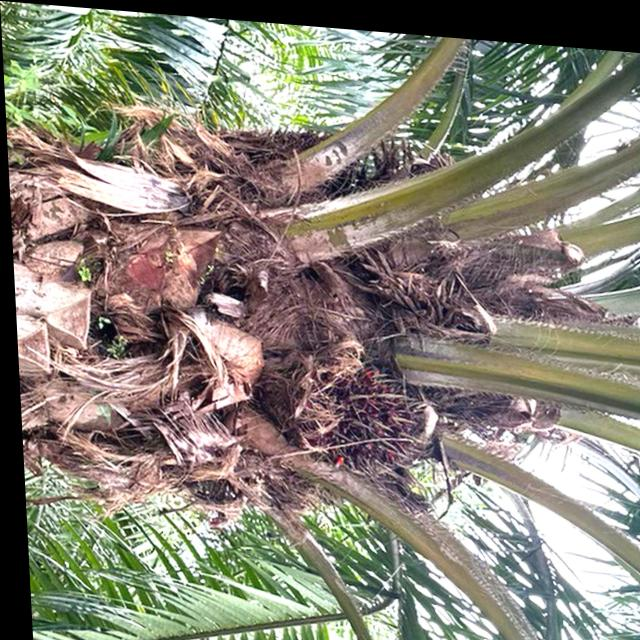ripe: (320, 353, 423, 474)
